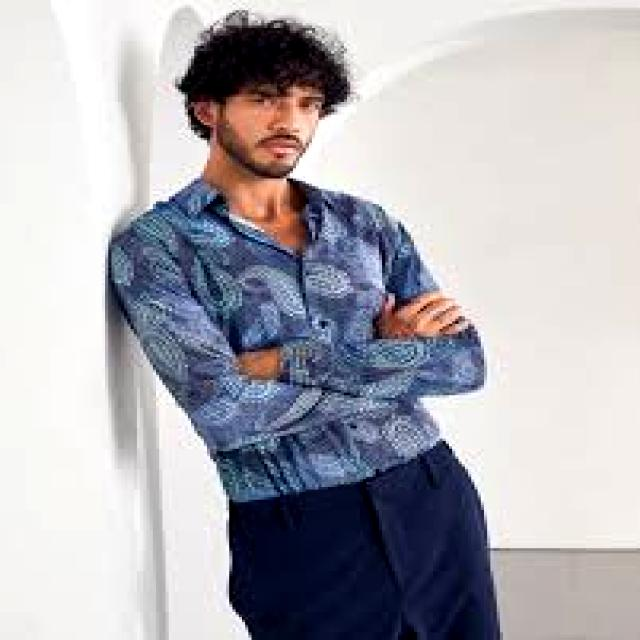face: (211, 85, 324, 178)
lower-wear: (227, 442, 503, 639)
top-wear: (109, 176, 487, 502)
